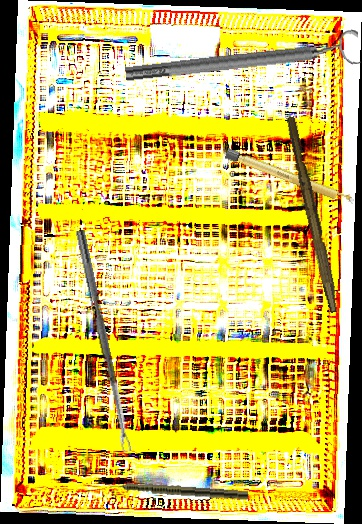Fixation Ring: (123, 28, 362, 92)
Handpiece: (99, 478, 249, 501)
Scalpel Handle: (281, 115, 345, 314), (224, 147, 356, 208)
Surgical Spoon: (74, 229, 132, 453)
